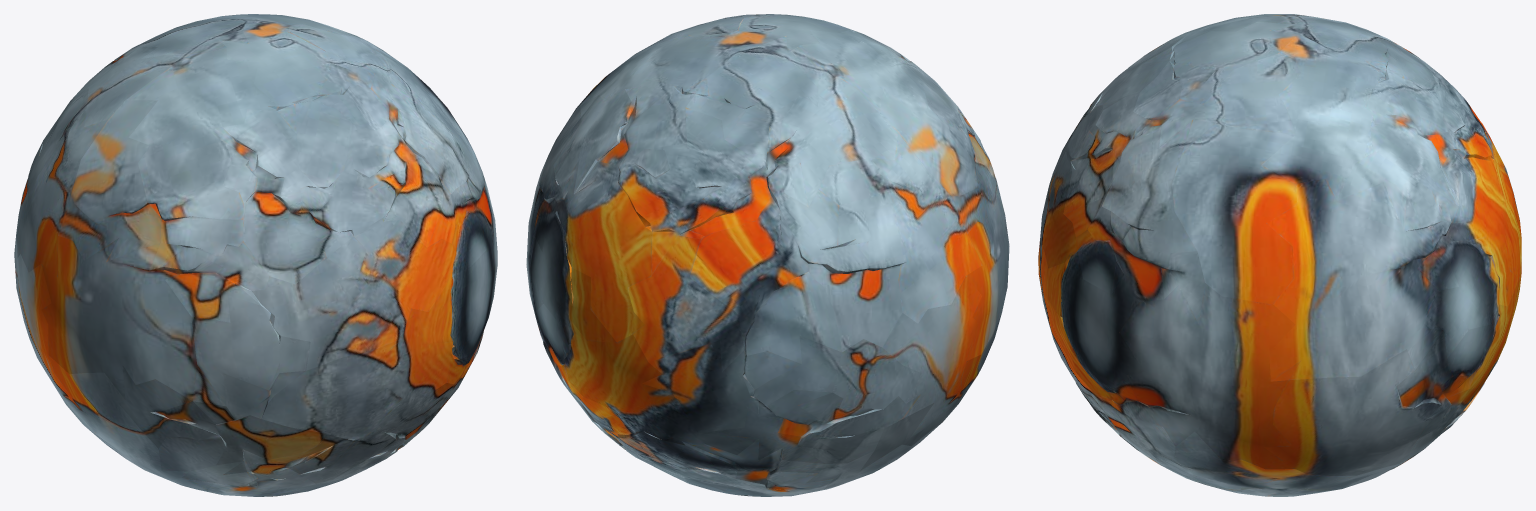
File: planet-volcanic.glb
3 views of the same model, side by side, from view 1: azimuth 30°, elevation 25°; view 2: azimuth 150°, elevation 25°; view 3: azimuth 270°, elevation 25° (orthographic).
Size of the model in its own units: 1.9 by 1.89 by 1.9.
1 material, 1 textured.
